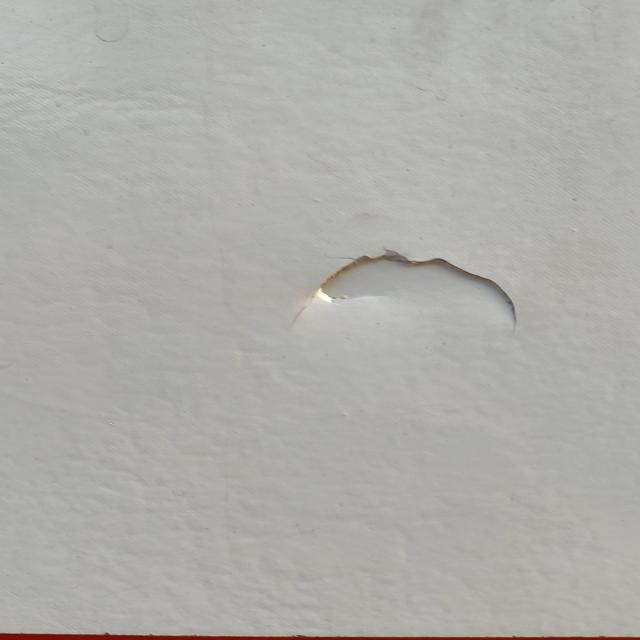Scratches: (276, 242, 530, 352)
